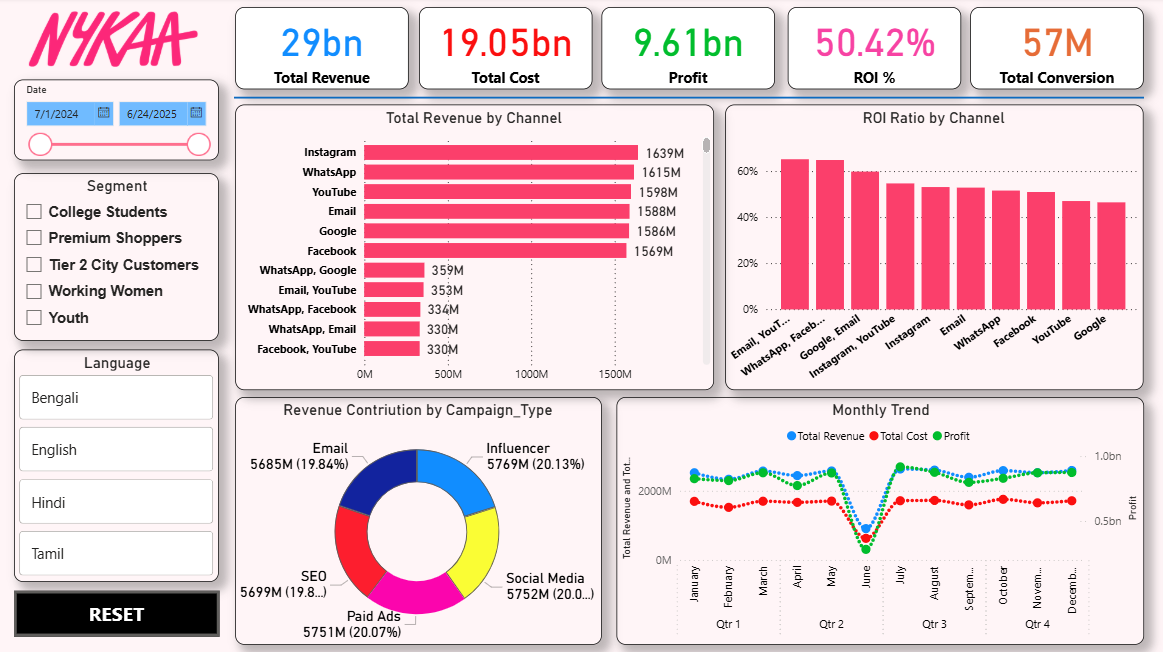

The page's visual inventory and layout, read from the dashboard file:
{"tool":"powerbi","page":{"name":"Page 1","canvas":[1280,720],"ordinal":0},"visuals":[{"type":"card","title":"Total Revenue","fields":{"Values":["nykaa_campaign_data.Total Revenue"]},"box":[259.3,11.6,190.7,90.7],"z":0},{"type":"lineChart","title":"Monthly Trend","fields":{"Category":["nykaa_campaign_data.Date.Variation.Date Hierarchy.Quarter","nykaa_campaign_data.Date.Variation.Date Hierarchy.Month"],"Y":["nykaa_campaign_data.Total Revenue","nykaa_campaign_data.Total Cost"],"Y2":["nykaa_campaign_data.Profit"]},"box":[677.9,439.5,579.1,272.1],"z":1000},{"type":"clusteredBarChart","title":"Total Revenue by Channel","fields":{"Category":["nykaa_campaign_data.Channel_Used"],"Y":["Sum(nykaa_campaign_data.Revenue)"]},"box":[259.3,117.4,525.6,314],"z":2000},{"type":"advancedSlicerVisual","title":"Language","fields":{"Values":["nykaa_campaign_data.Language"]},"box":[16.5,387,225,255.2],"z":3000},{"type":"slicer","fields":{"Values":["nykaa_campaign_data.Date"]},"box":[16.5,90.6,225,89.2],"z":4000},{"type":"image","box":[0,11.6,250,68.6],"z":5000},{"type":"donutChart","title":" Revenue Contriution by Campaign_Type","fields":{"Category":["nykaa_campaign_data.Campaign_Type"],"Y":["Sum(nykaa_campaign_data.Revenue)"]},"box":[259.3,439.5,402.3,272.1],"z":6000},{"type":"slicer","title":" Segment","fields":{"Values":["nykaa_campaign_data.Customer_Segment"]},"box":[16.5,193.5,225,183.9],"z":7000},{"type":"clusteredColumnChart","title":"ROI Ratio by Channel","fields":{"Category":["nykaa_campaign_data.Channel_Used"],"Y":["nykaa_campaign_data.ROI %"]},"box":[797.7,117.4,459.3,314],"z":8000},{"type":"card","title":"Total Revenue","fields":{"Values":["nykaa_campaign_data.Total Cost"]},"box":[461.6,11.6,190.7,90.7],"z":9000},{"type":"card","title":"Total Revenue","fields":{"Values":["nykaa_campaign_data.Profit"]},"box":[661.6,11.6,190.7,90.7],"z":10000},{"type":"card","title":"Total Revenue","fields":{"Values":["nykaa_campaign_data.ROI %"]},"box":[866.3,11.6,190.7,90.7],"z":11000},{"type":"card","title":"Total Revenue","fields":{"Values":["nykaa_campaign_data.Total Conversion"]},"box":[1066.3,11.6,190.7,90.7],"z":12000},{"type":"actionButton","title":"RESET","box":[16.3,651.2,225.6,50],"z":13000},{"type":"shape","box":[258,0,999,219.6],"z":14000}]}

Visuals, with their boxes in screenshot pixels (x1, y1, x2, y2), scaled from the page's 1280x720 canvas onto the 1163x652 screenshot:
"Total Revenue" card: rect(236, 11, 409, 93)
"Monthly Trend" lineChart: rect(616, 398, 1142, 644)
"Total Revenue by Channel" clusteredBarChart: rect(236, 106, 713, 391)
"Language" advancedSlicerVisual: rect(15, 350, 219, 582)
slicer - nykaa_campaign_data.Date: rect(15, 82, 219, 163)
image: rect(0, 11, 227, 73)
" Revenue Contriution by Campaign_Type" donutChart: rect(236, 398, 601, 644)
" Segment" slicer: rect(15, 175, 219, 342)
"ROI Ratio by Channel" clusteredColumnChart: rect(725, 106, 1142, 391)
"Total Revenue" card: rect(419, 11, 593, 93)
"Total Revenue" card: rect(601, 11, 774, 93)
"Total Revenue" card: rect(787, 11, 960, 93)
"Total Revenue" card: rect(969, 11, 1142, 93)
"RESET" actionButton: rect(15, 590, 220, 635)
shape: rect(234, 0, 1142, 199)
